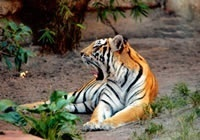tigre: (18, 33, 155, 129)
